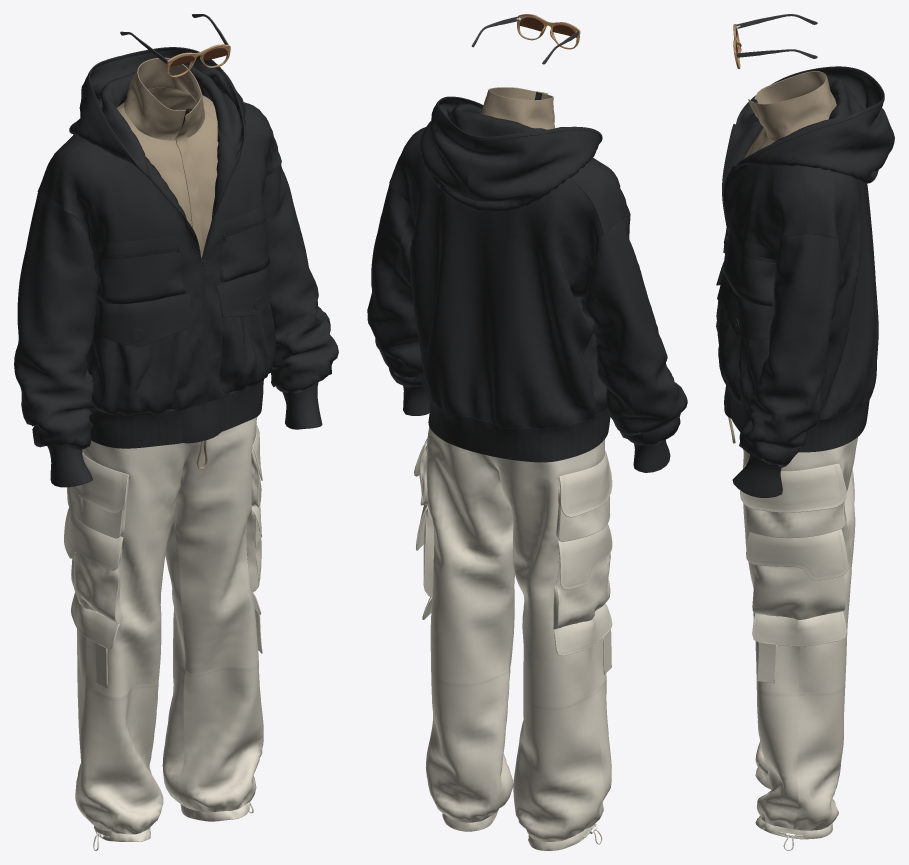
Rendered from 卫衣内搭夹克外套工装裤套装_obj.obj.
3 renders of one model, left to right at view 1: azimuth 30°, elevation 25°; view 2: azimuth 150°, elevation 25°; view 3: azimuth 270°, elevation 25°, orthographic. The views are drawn at different scales.
Visible parts, largest first — view 1: 落肩帽子防晒衣.右袖片.M_2_front, 版片77_1_1 Symmetry 3_2_1_front, 版片148_front, 版片77_1_1 Symmetry 3_2_2_front, 落肩帽子防晒衣.右前片.M_2_1_front, 版片77_1_1 Symmetry 2_2_2_2_front, 落肩帽子防晒衣.右袖片.M 对称 1_2_front, 版片319 对称 1_front, 落肩帽子防晒衣.右前片.M_2 Symmetry 2_1_front, 版片294_front, 插肩袖卫衣.前片._2_1_front, 版片319_front (+31 smaller); view 2: 落肩帽子防晒衣.后片.M_2_2_1_front, 版片77_1_1 Symmetry 1_1_1_2_1_front, 版片77_1_1 Symmetry 2_2_1_front, 版片77_1_1 Symmetry 2_2_2_front, 版片77_1_1 Symmetry 1_1_1_2_2_front, 落肩帽子防晒衣.右袖片.M_2_front, 落肩帽子防晒衣.帽面.M_1_front, 版片294_front, 落肩帽子防晒衣.右袖片.M_1_front, 落肩帽子防晒衣.右袖片.M 对称 1_1_front, 落肩帽子防晒衣.右袖片.M 对称 1_2_front, 落肩帽子防晒衣.帽面.M 对称 1_1_front (+15 smaller); view 3: 落肩帽子防晒衣.右袖片.M 对称 1_2_front, 落肩帽子防晒衣.后片.M_2_2_1_front, 版片77_1_1 Symmetry 1_1_1_2_2_front, 落肩帽子防晒衣.帽面.M 对称 1_1_front, 版片77_1_1 Symmetry 3_2_2_front, 版片77_1_1 Symmetry 1_1_1_2_1_front, 版片104_1_2_front, 落肩帽子防晒衣.右前片.M_2 Symmetry 2_1_front, 版片130 里布 1_front, 版片127 里布 1_front, 版片319_front, 版片133 里布 1_front (+21 smaller).
Part boxes in pixels (left/top/right/bottom): 落肩帽子防晒衣.右袖片.M_2_front: left=14, top=192, right=98, bottom=449; 版片77_1_1 Symmetry 3_2_1_front: left=175, top=417, right=258, bottom=674; 版片148_front: left=84, top=440, right=192, bottom=696; 版片77_1_1 Symmetry 3_2_2_front: left=178, top=662, right=263, bottom=812; 落肩帽子防晒衣.右前片.M_2_1_front: left=73, top=157, right=205, bottom=415; 版片77_1_1 Symmetry 2_2_2_2_front: left=78, top=681, right=163, bottom=834; 落肩帽子防晒衣.右袖片.M 对称 1_2_front: left=262, top=162, right=338, bottom=393; 版片319 对称 1_front: left=92, top=328, right=190, bottom=415; 落肩帽子防晒衣.右前片.M_2 Symmetry 2_1_front: left=204, top=125, right=274, bottom=402; 版片294_front: left=89, top=379, right=263, bottom=448; 插肩袖卫衣.前片._2_1_front: left=136, top=114, right=218, bottom=257; 版片319_front: left=219, top=302, right=275, bottom=394; 落肩帽子防晒衣.后片.M_2_2_1_front: left=389, top=145, right=603, bottom=428; 版片77_1_1 Symmetry 1_1_1_2_1_front: left=426, top=427, right=514, bottom=683; 版片77_1_1 Symmetry 2_2_1_front: left=490, top=448, right=596, bottom=706; 版片77_1_1 Symmetry 2_2_2_front: left=513, top=692, right=604, bottom=841; 版片77_1_1 Symmetry 1_1_1_2_2_front: left=425, top=668, right=509, bottom=822; 落肩帽子防晒衣.右袖片.M_2_front: left=588, top=215, right=687, bottom=446; 落肩帽子防晒衣.帽面.M_1_front: left=468, top=130, right=600, bottom=212; 版片294_front: left=427, top=394, right=610, bottom=462; 落肩帽子防晒衣.右袖片.M_1_front: left=571, top=253, right=644, bottom=445; 落肩帽子防晒衣.右袖片.M 对称 1_1_front: left=381, top=213, right=423, bottom=387; 落肩帽子防晒衣.右袖片.M 对称 1_2_front: left=367, top=183, right=412, bottom=383; 落肩帽子防晒衣.帽面.M 对称 1_1_front: left=420, top=105, right=478, bottom=211; 落肩帽子防晒衣.右袖片.M 对称 1_2_front: left=739, top=234, right=841, bottom=467; 落肩帽子防晒衣.后片.M_2_2_1_front: left=818, top=172, right=878, bottom=419; 版片77_1_1 Symmetry 1_1_1_2_2_front: left=793, top=684, right=845, bottom=830; 落肩帽子防晒衣.帽面.M 对称 1_1_front: left=740, top=103, right=894, bottom=183; 版片77_1_1 Symmetry 3_2_2_front: left=756, top=688, right=798, bottom=829; 版片77_1_1 Symmetry 1_1_1_2_1_front: left=791, top=437, right=857, bottom=692; 版片104_1_2_front: left=752, top=564, right=845, bottom=619; 落肩帽子防晒衣.右前片.M_2 Symmetry 2_1_front: left=726, top=164, right=782, bottom=410; 版片130 里布 1_front: left=746, top=529, right=848, bottom=580; 版片127 里布 1_front: left=740, top=463, right=846, bottom=512; 版片319_front: left=718, top=306, right=769, bottom=409; 版片133 里布 1_front: left=752, top=611, right=846, bottom=646.
Size of the model in its own units: 671 by 1699 by 353.
Materials: 21 (2 with a texture image).
